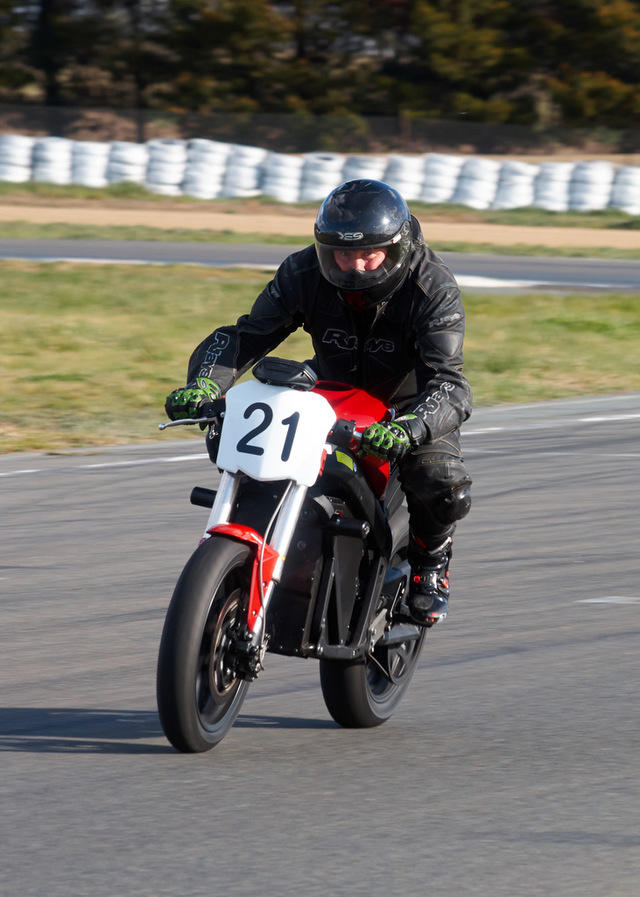helmet: (315, 177, 427, 290)
